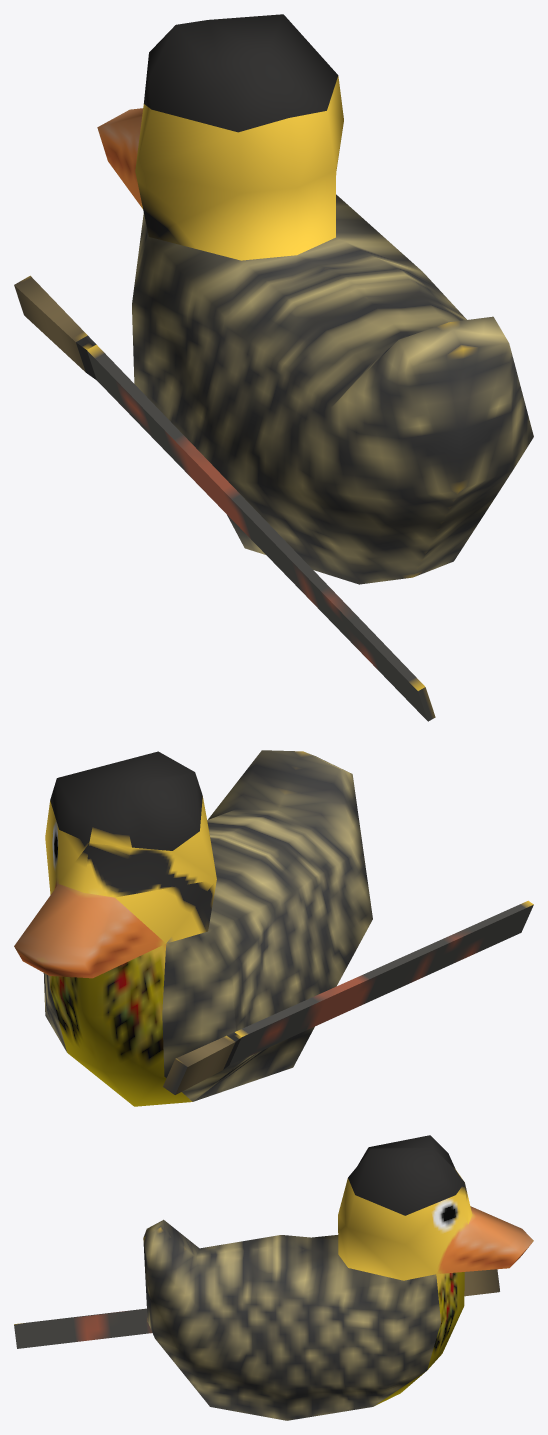
The model's file is duck_goro.FBX.
3 views of the same model, one above another, from view 1: azimuth 30°, elevation 25°; view 2: azimuth 150°, elevation 25°; view 3: azimuth 270°, elevation 25° (orthographic). The views are drawn at different scales.
Visible parts, largest first — view 1: Untitled; view 2: Untitled; view 3: Untitled.
Boxes of the visible parts, left/top/right/bottom form: Untitled: left=14, top=14, right=533, bottom=721; Untitled: left=14, top=750, right=533, bottom=1106; Untitled: left=14, top=1135, right=533, bottom=1420.
Bounding box in the file's own units: 0.1059 × 0.1469 × 0.2812.
